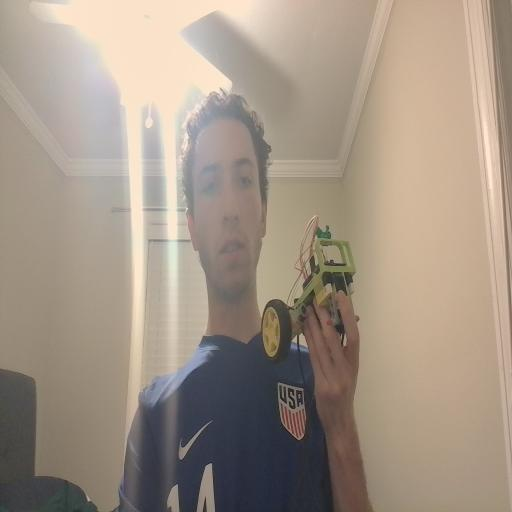green LEGO minifig: (314, 224, 333, 240)
